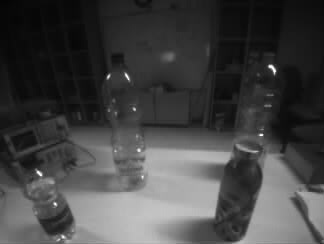Bottle: (107, 53, 148, 187), (213, 141, 263, 239), (25, 162, 72, 242), (237, 63, 276, 140)
